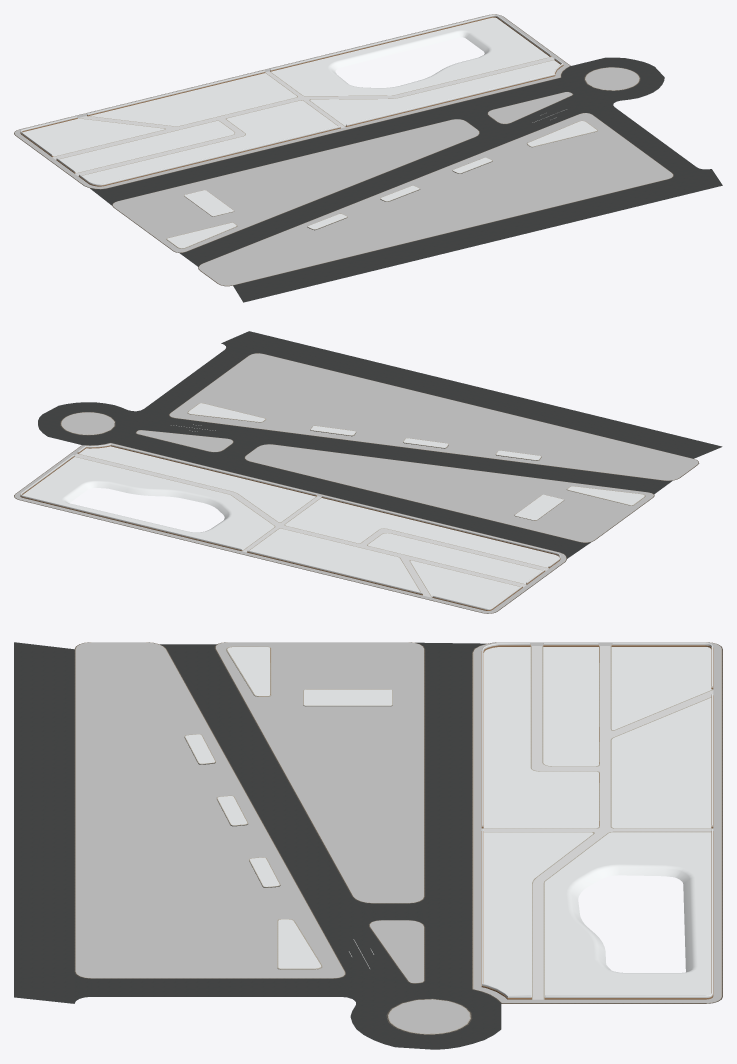
The model's file is Area_17.fbx.
3 views of the same model, one above another, from view 1: azimuth 30°, elevation 25°; view 2: azimuth 150°, elevation 25°; view 3: azimuth 270°, elevation 25° (orthographic). The views are drawn at different scales.
Parts seen in each view (by area): view 1: Area_17; view 2: Area_17; view 3: Area_17.
Boxes of the visible parts, <box> form: Area_17: <box>14,14,722,302</box>; Area_17: <box>14,331,722,613</box>; Area_17: <box>14,642,722,1049</box>.
Bounding box in the file's own units: 29046 × 310 × 21350.
